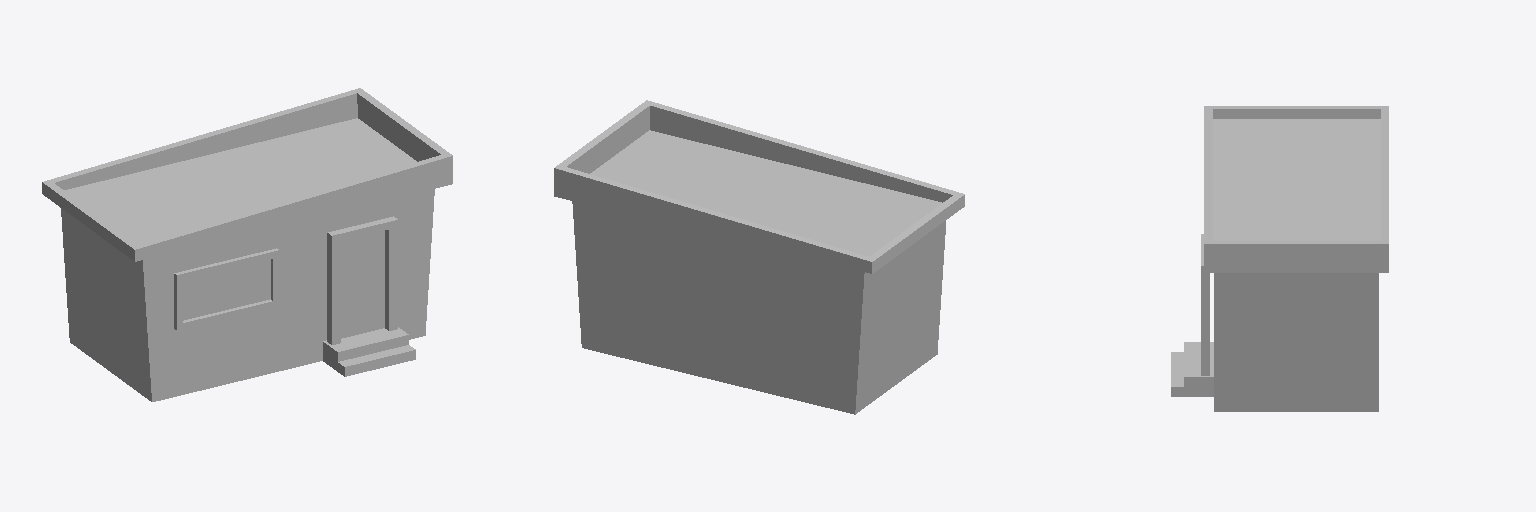
File: Building 003.obj
3 views of the same model, side by side, from view 1: azimuth 30°, elevation 25°; view 2: azimuth 150°, elevation 25°; view 3: azimuth 270°, elevation 25° (orthographic).
Visible parts, largest first — view 1: Cube1; view 2: Cube1; view 3: Cube1.
Part boxes in pixels (x1,y1,x2,y2): Cube1: (42,88,452,401); Cube1: (554,100,964,414); Cube1: (1171,106,1388,411).
Bounding box in the file's own units: 446 × 239 × 266.